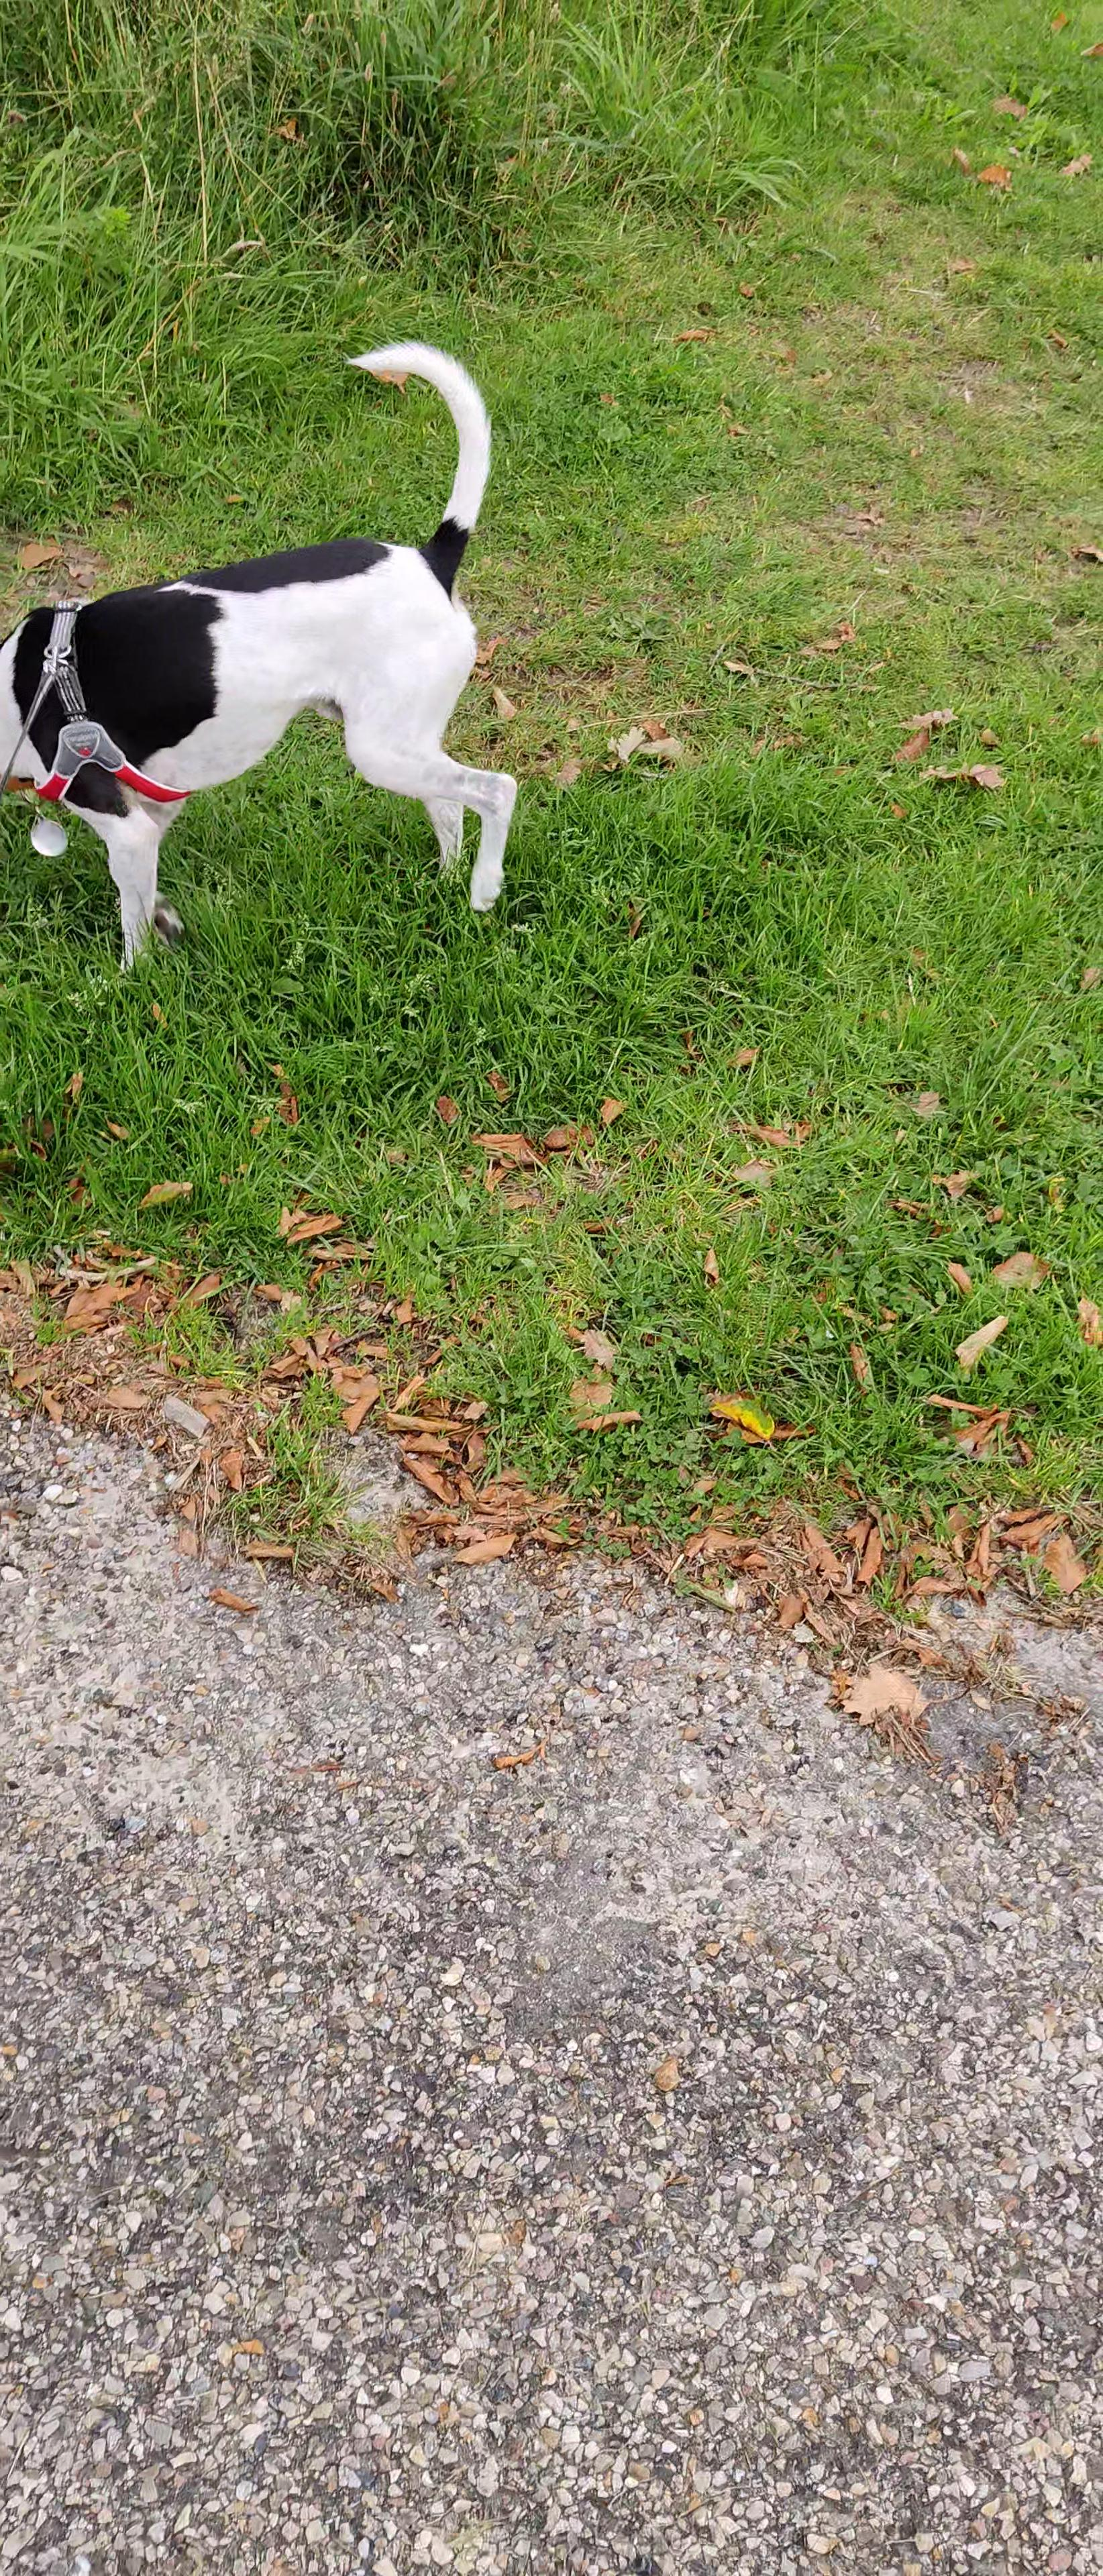Dog: (0, 337, 529, 973)
